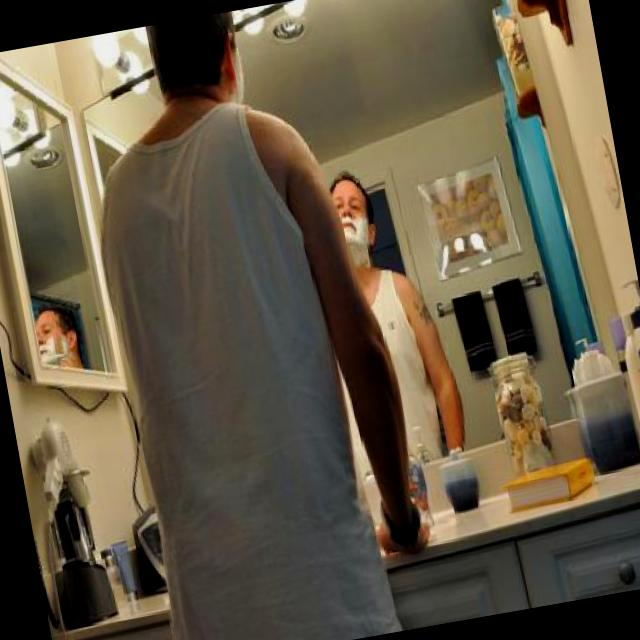Person: (62, 0, 445, 640)
